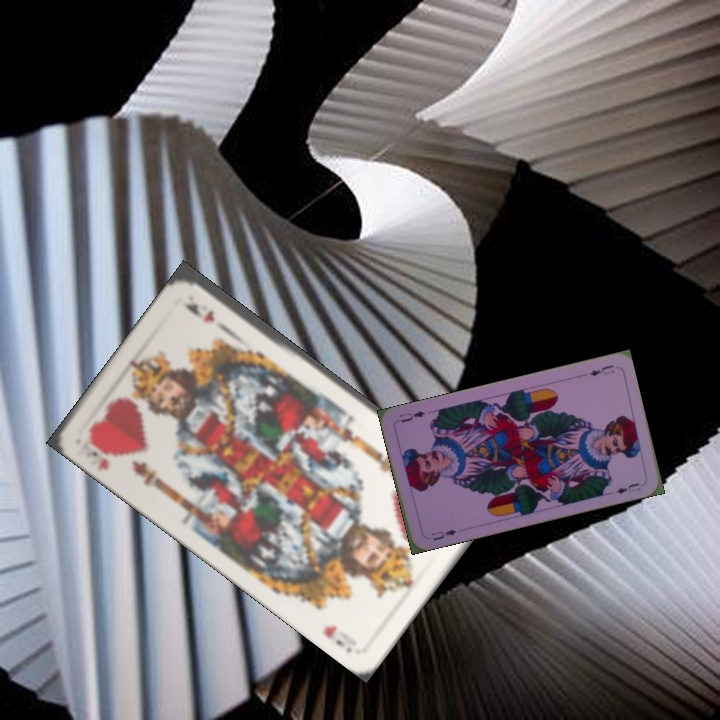EU: (427, 525, 459, 543), (585, 361, 617, 379)
HK: (77, 434, 112, 473)
